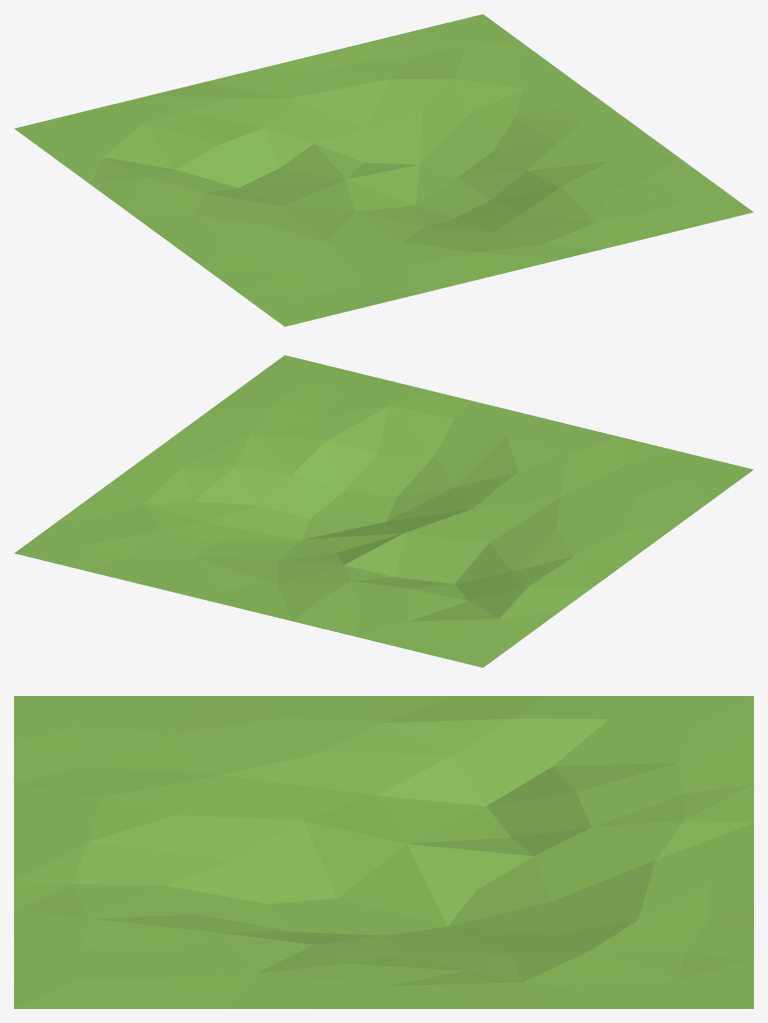
The model's file is MT_Terrain_S_b_07_LOD.fbx.
The picture shows the model from 3 angles, top to bottom: view 1: azimuth 30°, elevation 25°; view 2: azimuth 150°, elevation 25°; view 3: azimuth 270°, elevation 25°; orthographic projection. The views are drawn at different scales.
Visible parts, largest first — view 1: MT_Terrain_S_b_07_LOD0; view 2: MT_Terrain_S_b_07_LOD0; view 3: MT_Terrain_S_b_07_LOD0.
Boxes of the visible parts, <box> form: MT_Terrain_S_b_07_LOD0: <box>14,14,753,326</box>; MT_Terrain_S_b_07_LOD0: <box>14,355,753,667</box>; MT_Terrain_S_b_07_LOD0: <box>14,696,753,1008</box>.
Size of what is drawn, in the model's own units: 2500 by 159 by 2500.
